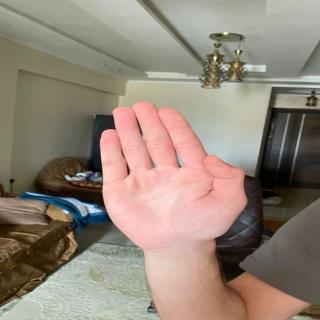SEEN: (86, 100, 260, 247)
